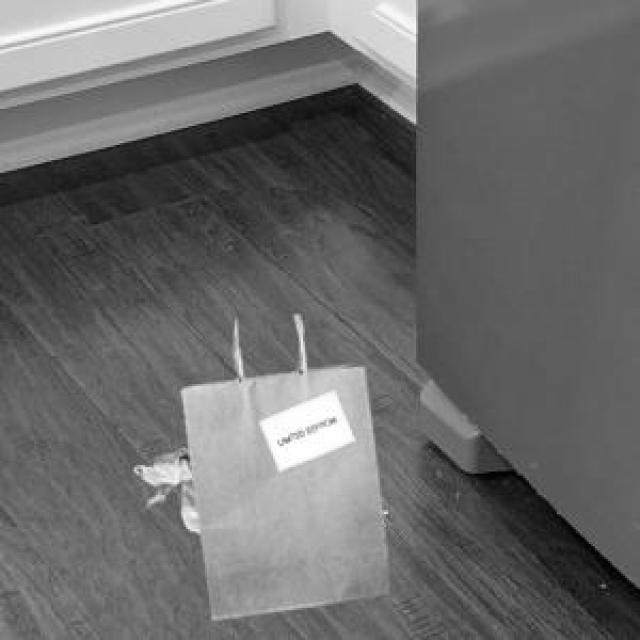paper: (177, 312, 386, 617)
